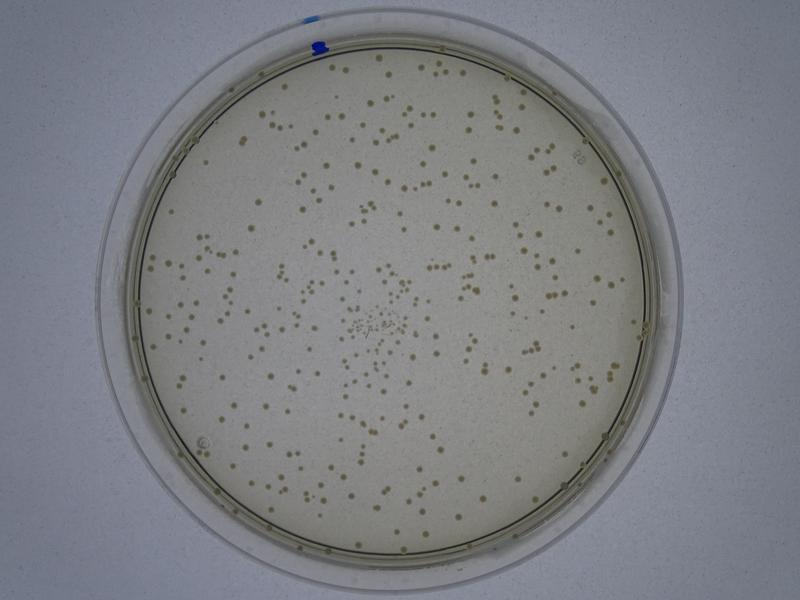colony: (227, 267, 241, 281), (400, 377, 416, 389), (214, 371, 227, 384), (351, 158, 364, 171), (539, 197, 551, 210), (468, 155, 480, 168), (428, 349, 443, 359), (489, 198, 502, 208), (320, 158, 330, 171), (261, 401, 271, 414), (431, 222, 442, 233), (407, 352, 418, 363), (201, 157, 211, 169), (218, 414, 228, 426), (309, 322, 319, 334), (246, 222, 255, 235), (266, 369, 275, 382), (427, 140, 436, 152), (198, 337, 207, 349), (176, 274, 188, 283), (298, 205, 308, 215), (463, 125, 473, 135), (325, 461, 335, 471), (434, 446, 445, 455), (254, 196, 262, 207), (167, 208, 176, 216)
